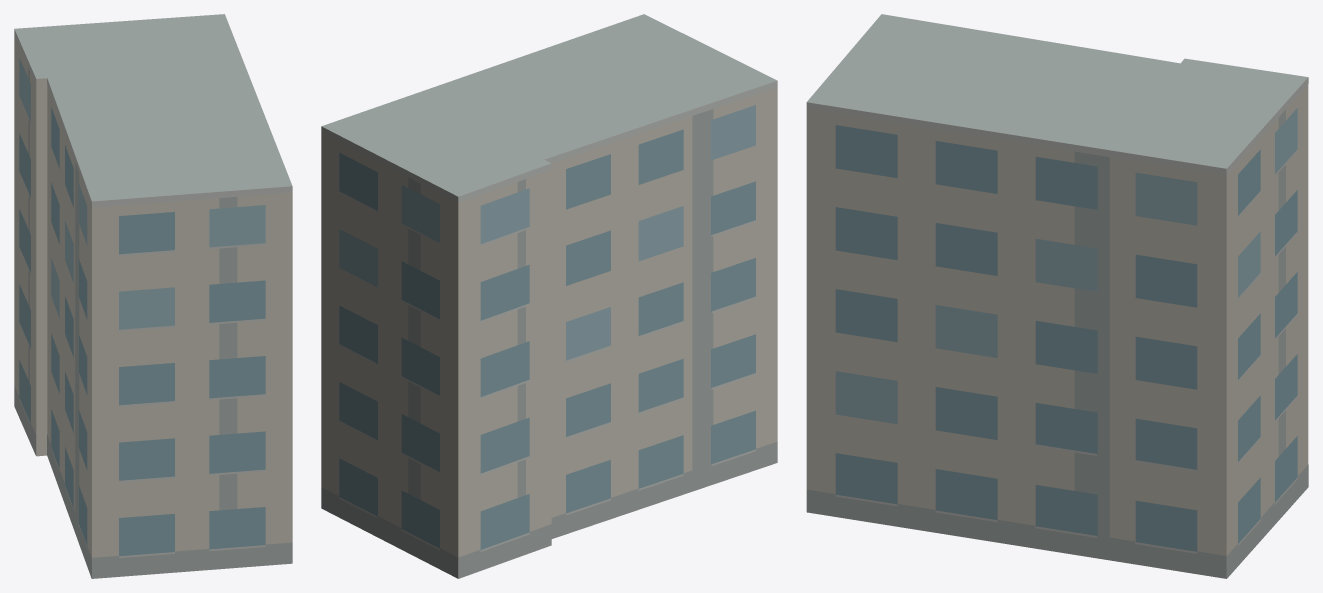
Rendered from survey-upis-32888419.glb.
3 views of the same model, side by side, from view 1: azimuth 30°, elevation 25°; view 2: azimuth 150°, elevation 25°; view 3: azimuth 270°, elevation 25° (orthographic). The views are drawn at different scales.
Visible parts, largest first — view 1: survey-upis-32888419.tmp; view 2: survey-upis-32888419.tmp; view 3: survey-upis-32888419.tmp.
Part boxes in pixels (x1=…): survey-upis-32888419.tmp: x1=14, y1=14, x2=292, y2=578; survey-upis-32888419.tmp: x1=321, y1=14, x2=777, y2=578; survey-upis-32888419.tmp: x1=806, y1=14, x2=1308, y2=578.
Size of the model in its own units: 11.75 by 14.5 by 16.09.
